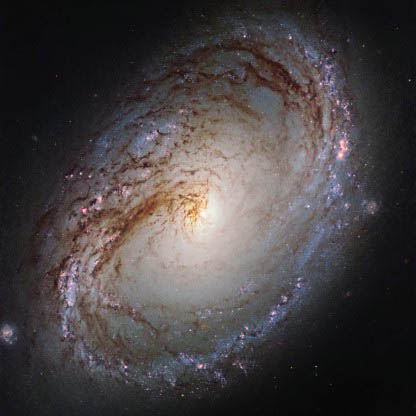Messier 96: (1, 7, 393, 404)
